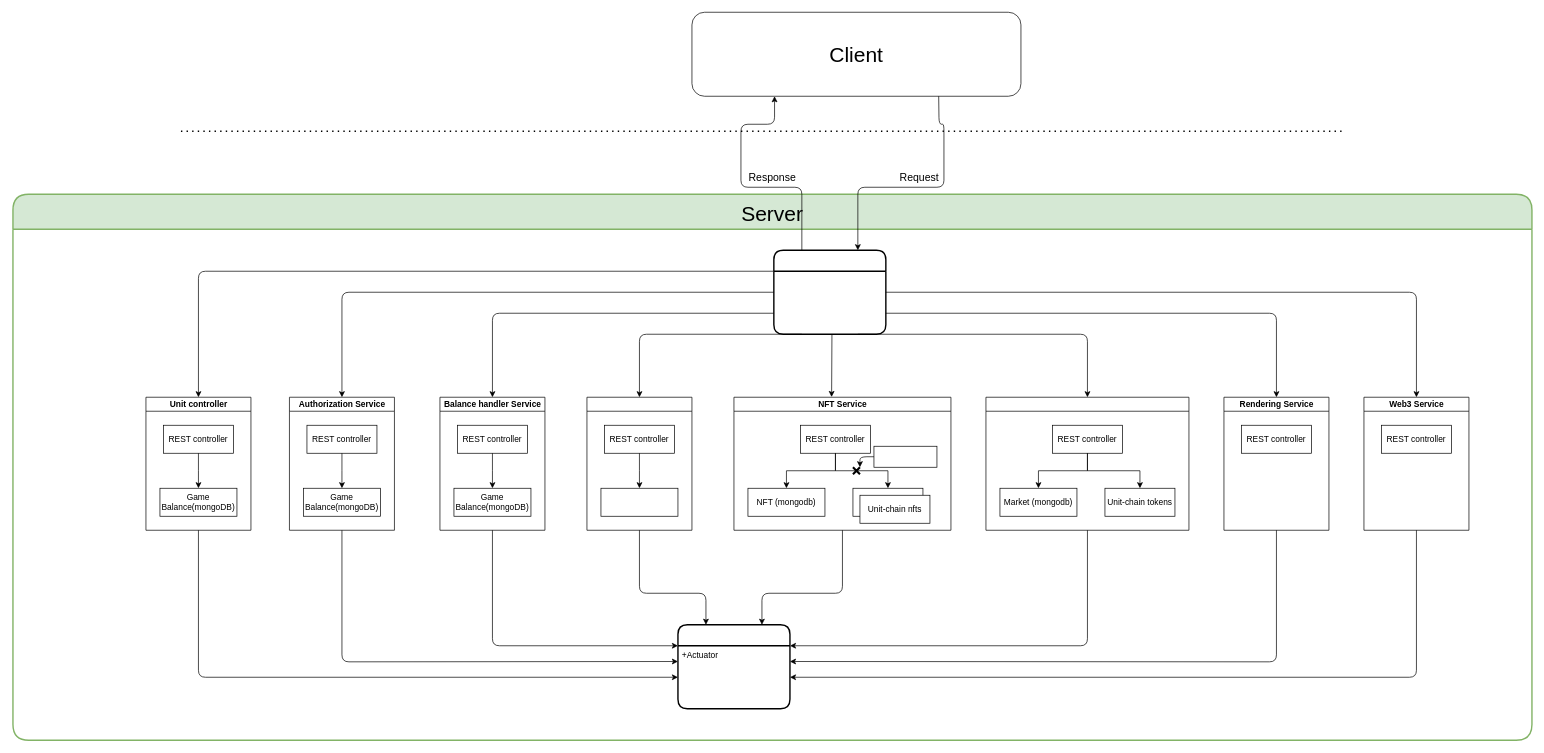
This 1544x753 diagram has some shape labels left out. The shapes that lost their labels are listed below. From the top down, each one's box as (x1, y1, x2, y2) in pixels, then its label:
(773, 249, 886, 335): API Gateway
(586, 397, 692, 530): User Service
(873, 446, 937, 467): In future releases
(985, 397, 1189, 530): Market Service
(600, 488, 678, 516): User (mongoDB)
(677, 624, 790, 709): Eureka
